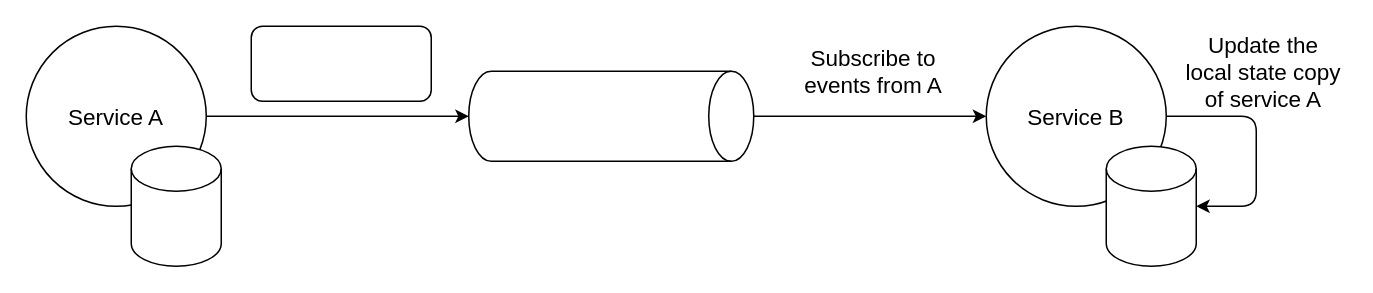
Image size: 1373x293. Some labels were removed from this diagram. The centre of each missing label's shape, as x and y in pixels:
Event: A state changes state1 => state2: point 340,63
Messaging System: point 610,115
